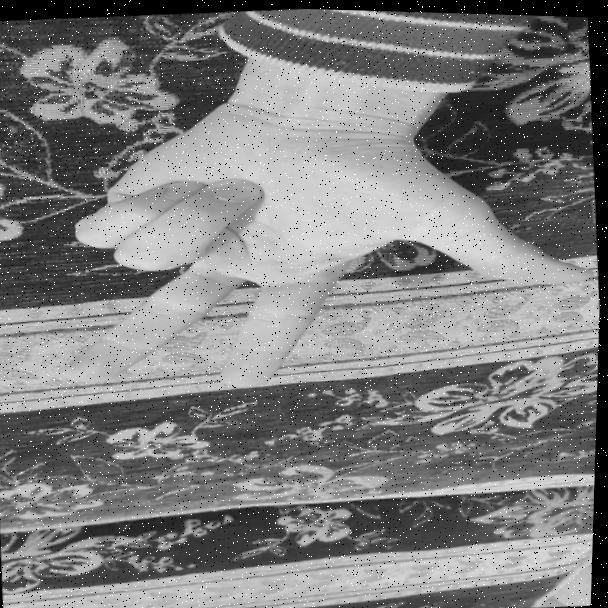three: (37, 89, 595, 407)
